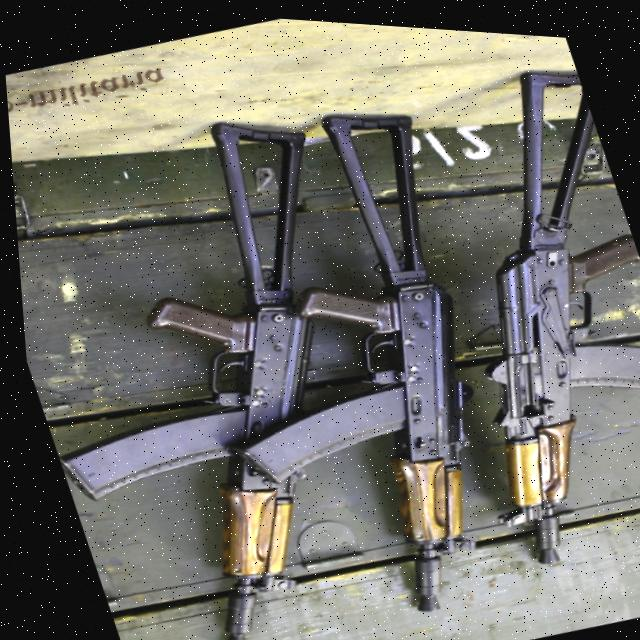firearm: (5, 87, 462, 640), (127, 76, 569, 640), (355, 41, 640, 576)
